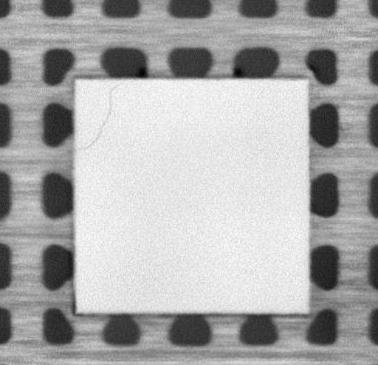DIE_CRACK: (76, 82, 119, 153)
